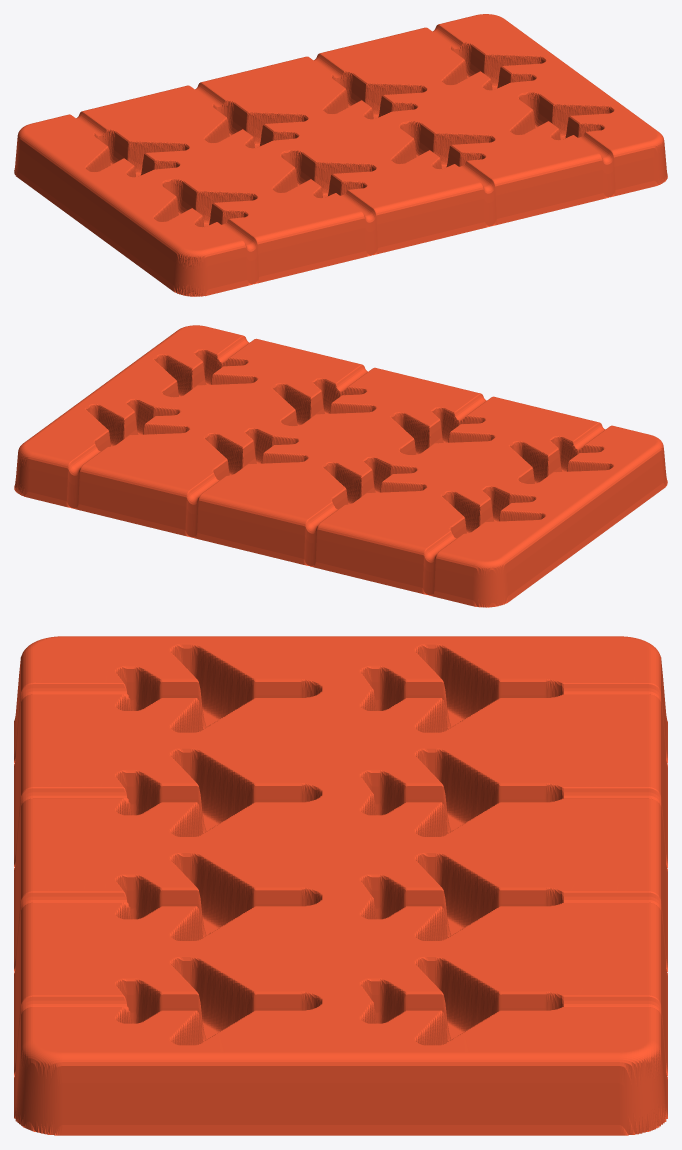
The model's file is mold.glb.
3 renders of one model, top to bottom at view 1: azimuth 30°, elevation 25°; view 2: azimuth 150°, elevation 25°; view 3: azimuth 270°, elevation 25°, orthographic. The views are drawn at different scales.
Parts seen in each view (by area): view 1: geometry_0; view 2: geometry_0; view 3: geometry_0.
Boxes of the visible parts, x1,y1,x2,y2 form: geometry_0: (14,14,667,296); geometry_0: (14,325,667,607); geometry_0: (14,636,667,1135).
Bounding box in the file's own units: 0.1907 × 0.0155 × 0.1222.
